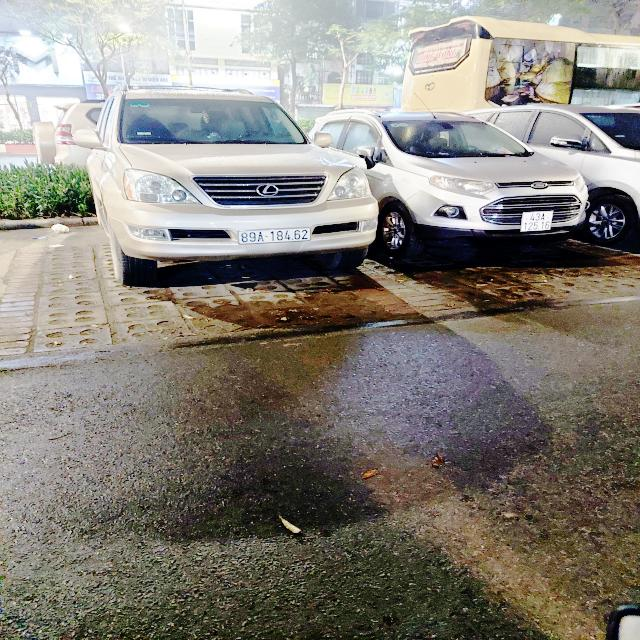license_plate: (235, 226, 315, 247), (519, 209, 559, 234)
